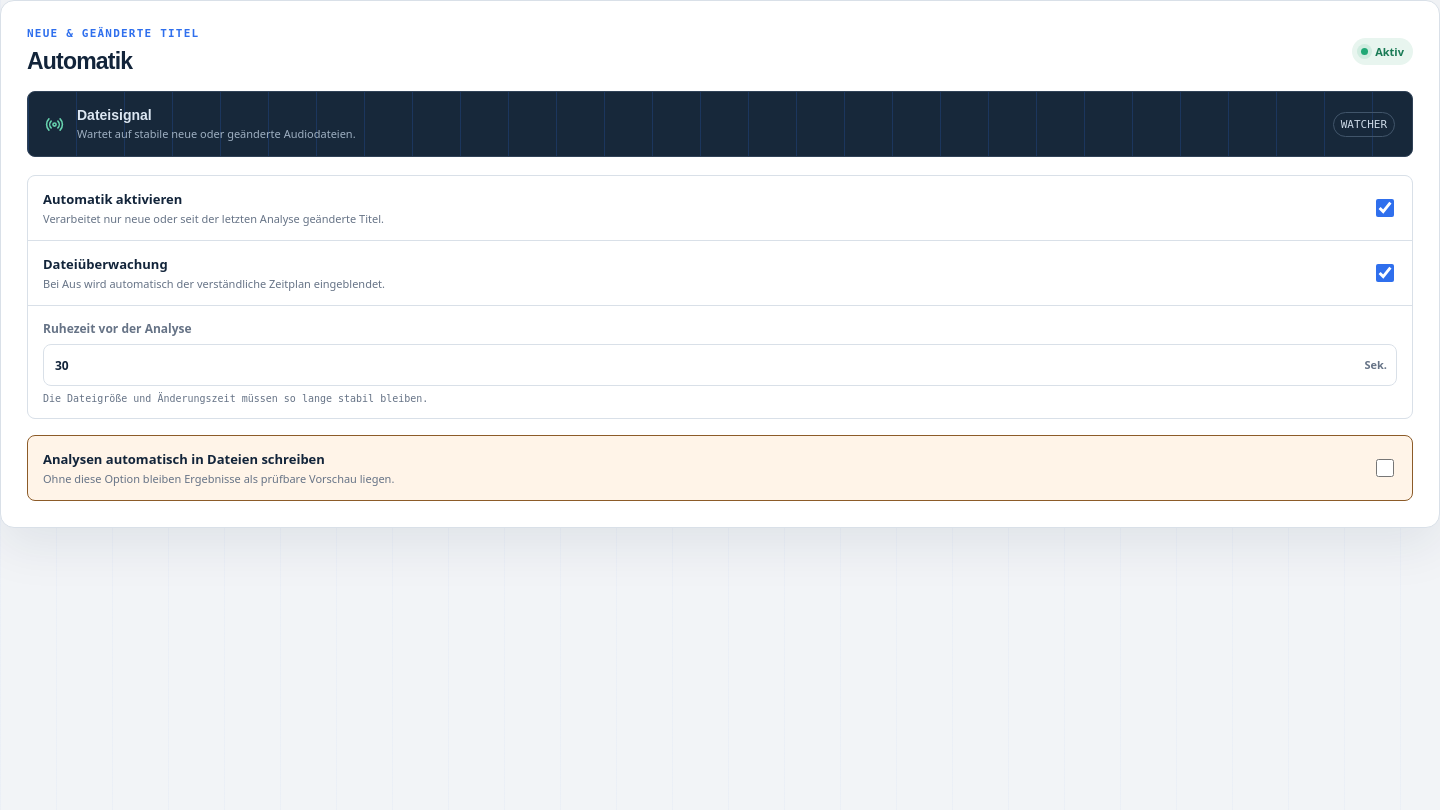
turning watcher off opens understandable schedule settings
Click the checkbox labelled "Dateiüberwachung" at (1385, 273), box [1376, 264, 1394, 282]
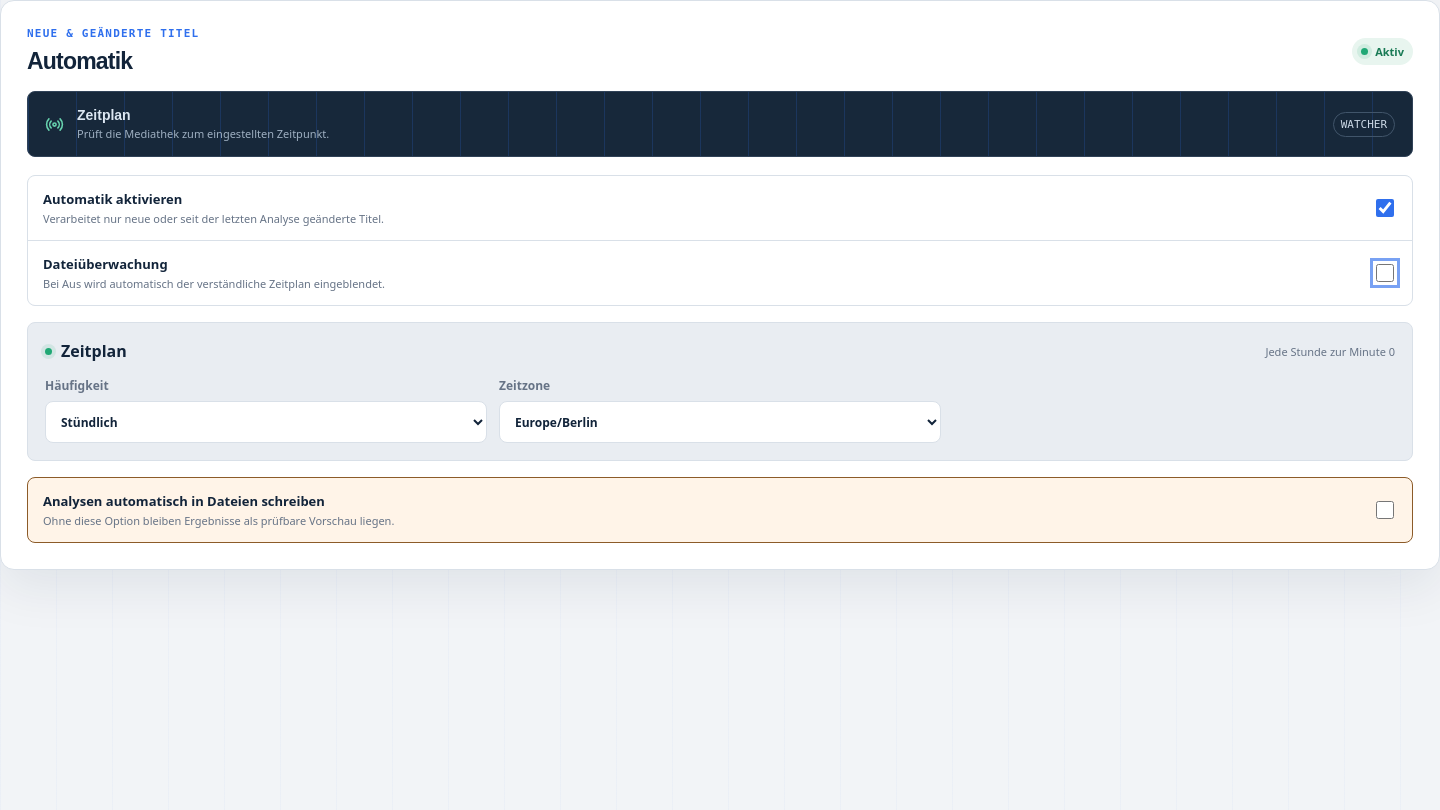
Expected: the element "Zeitplan" is shown, [27, 322, 1413, 461]
Expected: the dropdown labelled "Häufigkeit" is shown, [45, 401, 487, 443]
